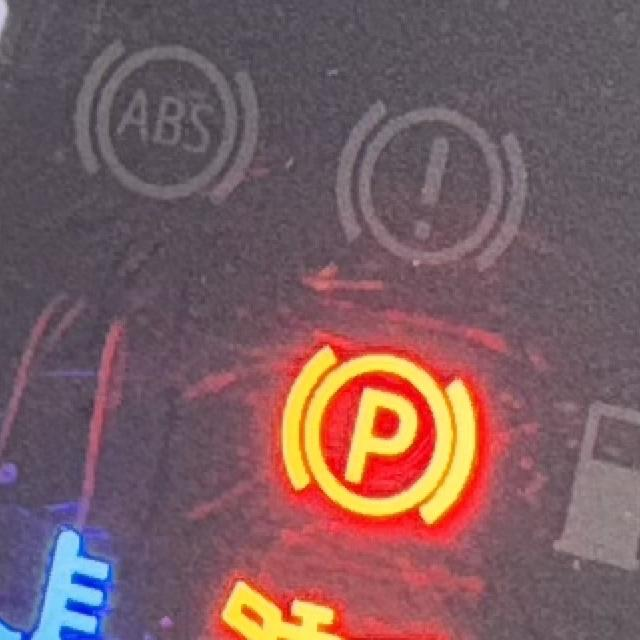High Engine Temperature: (1, 524, 116, 640)
Parking Break On: (278, 343, 483, 523)
